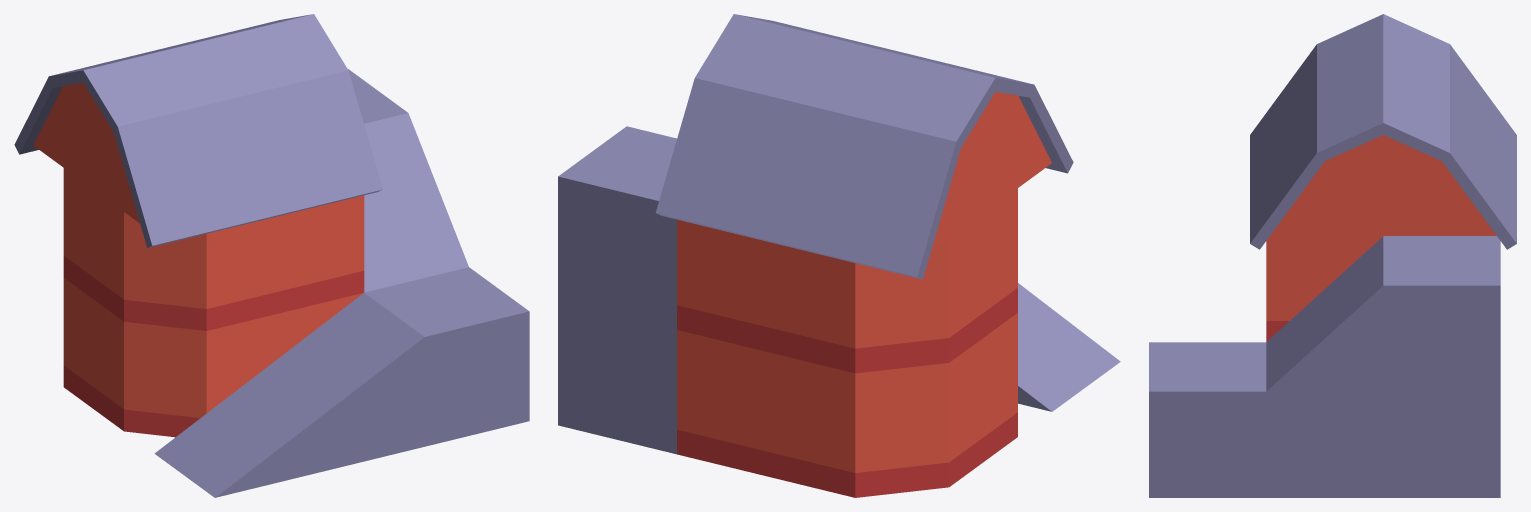
File: OuterStairsHouse.glb
3 views of the same model, side by side, from view 1: azimuth 30°, elevation 25°; view 2: azimuth 150°, elevation 25°; view 3: azimuth 270°, elevation 25° (orthographic). The views are drawn at different scales.
Parts seen in each view (by area): view 1: mergedBlocks(Clone); view 2: mergedBlocks(Clone); view 3: mergedBlocks(Clone).
Part boxes in pixels (x1,y1,x2,y2): mergedBlocks(Clone): [14, 14, 529, 497]; mergedBlocks(Clone): [558, 14, 1120, 497]; mergedBlocks(Clone): [1149, 14, 1516, 497].
Size of the model in its own units: 3.1 by 3.11 by 3.14.
